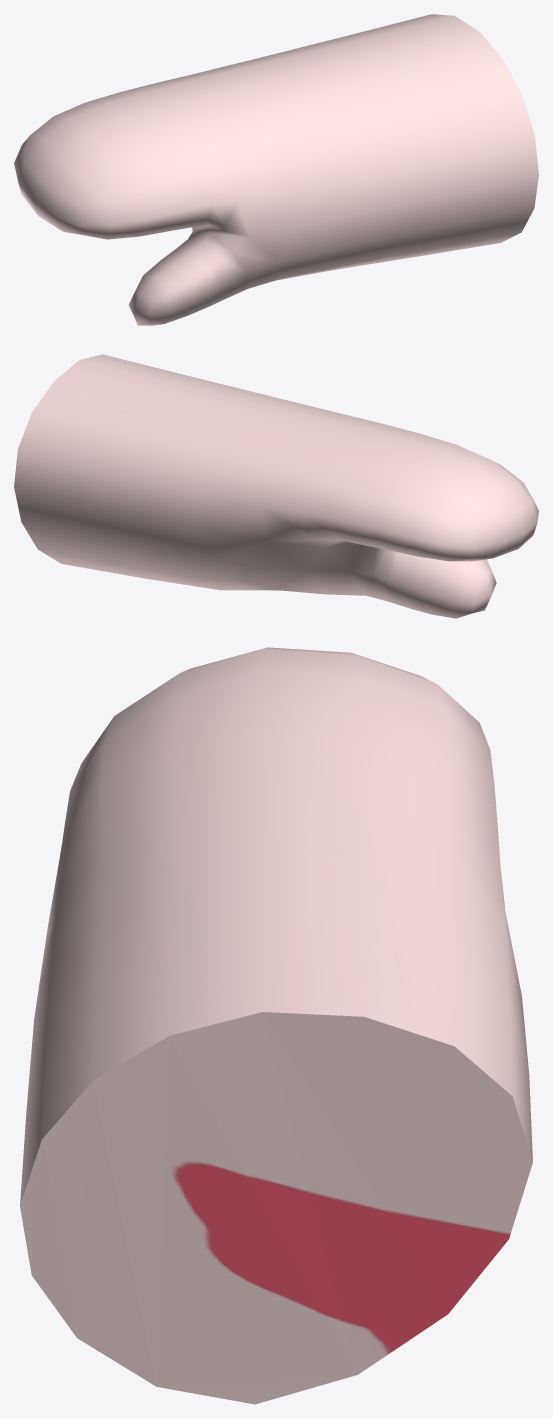
Rendered from jennie_hand.fbx.
3 views of the same model, one above another, from view 1: azimuth 30°, elevation 25°; view 2: azimuth 150°, elevation 25°; view 3: azimuth 270°, elevation 25° (orthographic). The views are drawn at different scales.
Parts seen in each view (by area): view 1: polySurface80.001; view 2: polySurface80.001; view 3: polySurface80.001.
Part boxes in pixels (bbox=[...]): polySurface80.001: bbox=[14, 14, 538, 325]; polySurface80.001: bbox=[14, 354, 538, 618]; polySurface80.001: bbox=[20, 647, 532, 1404].
Bounding box in the file's own units: 201 × 85.93 × 100.
1 material, 1 textured.
